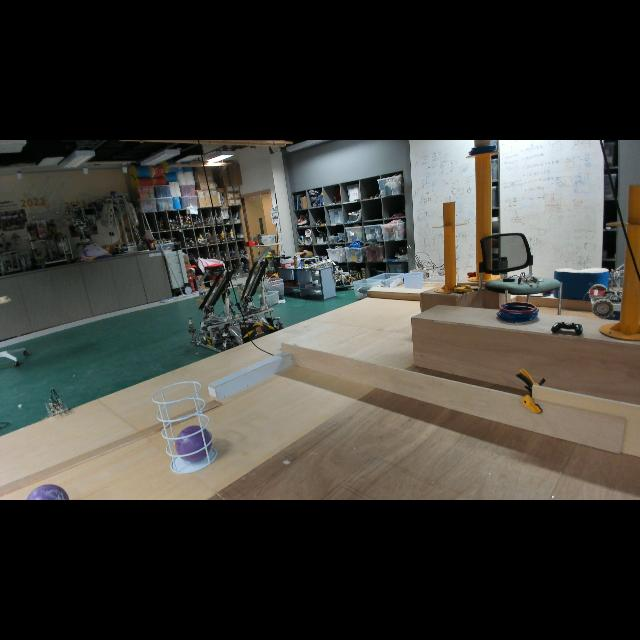P: (175, 425, 213, 463), (26, 484, 70, 500)
S: (149, 380, 219, 476)
